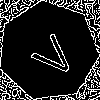V: (23, 26, 80, 82)
